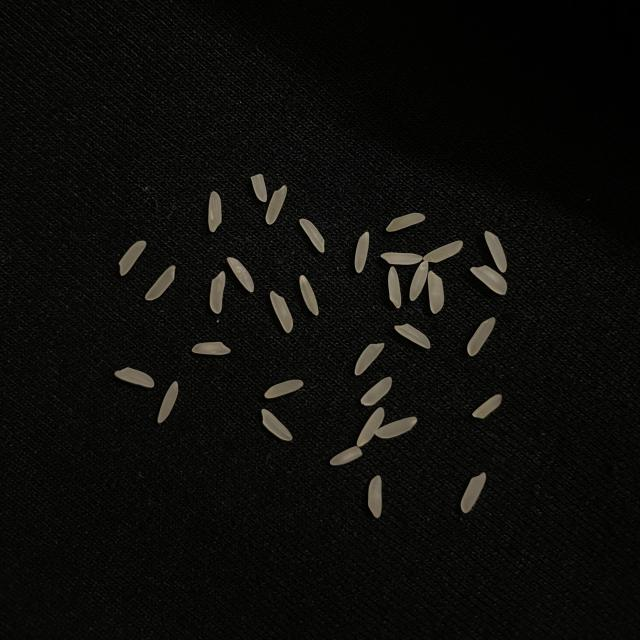Broken: (330, 446, 364, 466), (250, 173, 266, 201)
Full: (356, 407, 387, 447), (145, 264, 177, 302), (467, 316, 496, 357), (470, 265, 508, 295), (354, 342, 386, 376), (461, 472, 486, 514), (270, 289, 294, 332), (157, 381, 180, 425), (227, 258, 255, 294), (119, 241, 147, 276), (484, 231, 507, 273), (262, 409, 292, 441), (299, 218, 325, 254), (361, 377, 393, 406), (374, 416, 416, 438), (423, 240, 463, 263), (394, 324, 430, 349), (114, 366, 154, 388), (409, 261, 430, 301), (267, 187, 287, 226), (472, 394, 503, 419), (300, 275, 319, 315), (385, 212, 425, 231), (210, 269, 226, 313), (264, 380, 303, 398), (428, 271, 443, 313), (368, 475, 382, 519), (355, 230, 369, 272), (208, 190, 222, 232), (388, 266, 401, 310), (380, 252, 423, 265), (192, 342, 231, 355)
